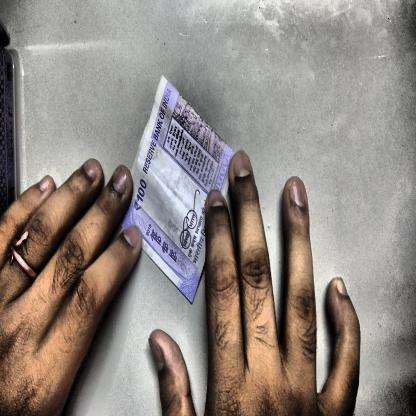Rs100: (130, 174, 151, 217)
